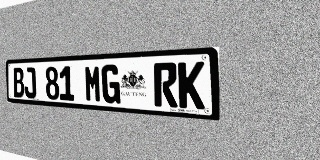1: (59, 66, 74, 101)
8: (45, 66, 59, 100)
B: (13, 67, 25, 98)
G: (101, 64, 120, 104)
J: (24, 67, 36, 98)
K: (178, 61, 205, 109)
M: (84, 65, 102, 103)
R: (154, 62, 178, 108)
